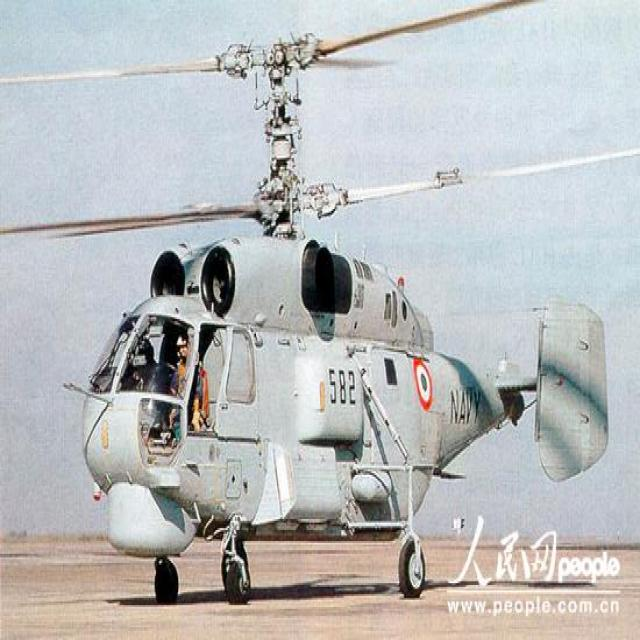MIL_HELO: (3, 23, 620, 601)
